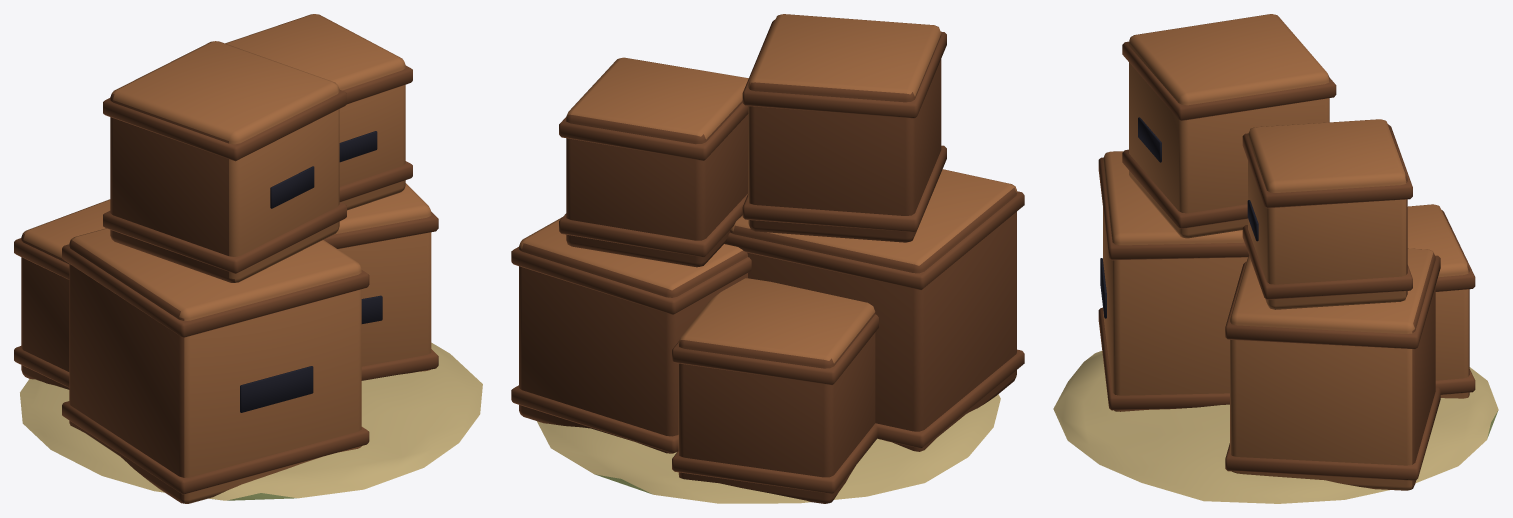
The model's file is CrateStack.fbx.
The picture shows the model from 3 angles, left to right: view 1: azimuth 30°, elevation 25°; view 2: azimuth 150°, elevation 25°; view 3: azimuth 270°, elevation 25°; orthographic projection. The views are drawn at different scales.
Visible parts, largest first — view 1: CrateStack; view 2: CrateStack; view 3: CrateStack.
Boxes of the visible parts, <box> form: CrateStack: <box>14,14,482,503</box>; CrateStack: <box>511,14,1024,503</box>; CrateStack: <box>1053,14,1498,503</box>.
Bounding box in the file's own units: 1.71 × 1.42 × 1.72.
Materials: 1 (1 with a texture image).
